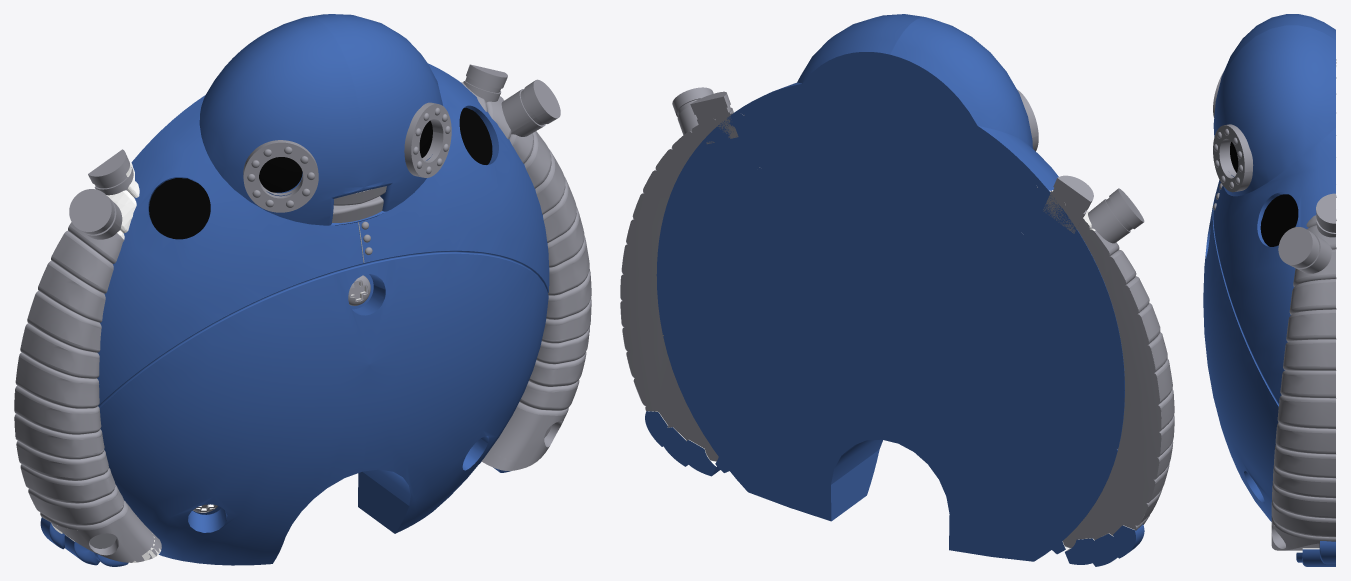
Rendered from Robtos 2 Brother.gltf.
3 views of the same model, side by side, from view 1: azimuth 30°, elevation 25°; view 2: azimuth 150°, elevation 25°; view 3: azimuth 270°, elevation 25° (orthographic). The views are drawn at different scales.
Parts seen in each view (by area): view 1: node-0; view 2: node-0; view 3: node-0.
Boxes of the visible parts, box(x1,y1,x2,y2) form: node-0: box(14, 14, 591, 566); node-0: box(620, 14, 1174, 566); node-0: box(1203, 14, 1336, 566).
Size of the model in its own units: 21.29 by 18.68 by 4.86.
